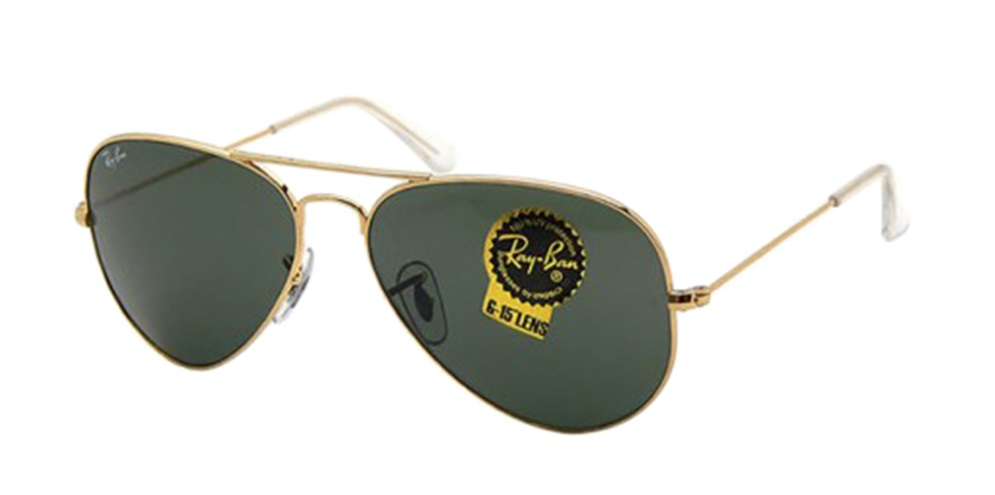Rayban: (489, 224, 585, 286), (93, 137, 141, 176)
